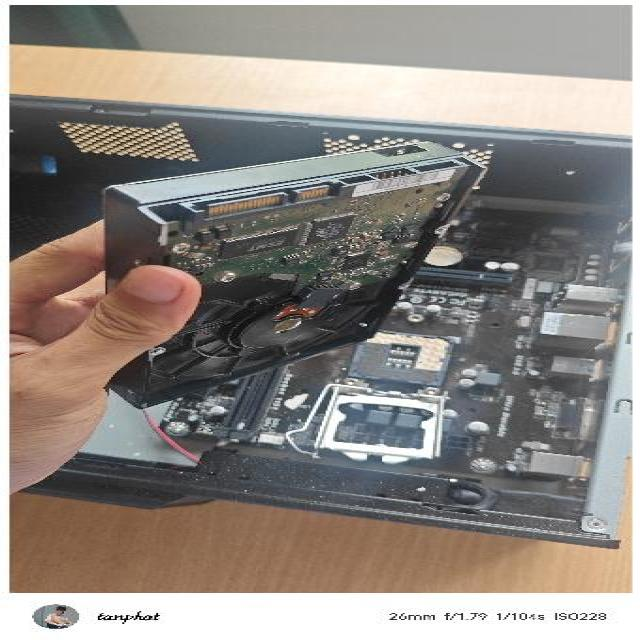DISK: (92, 142, 492, 414)
